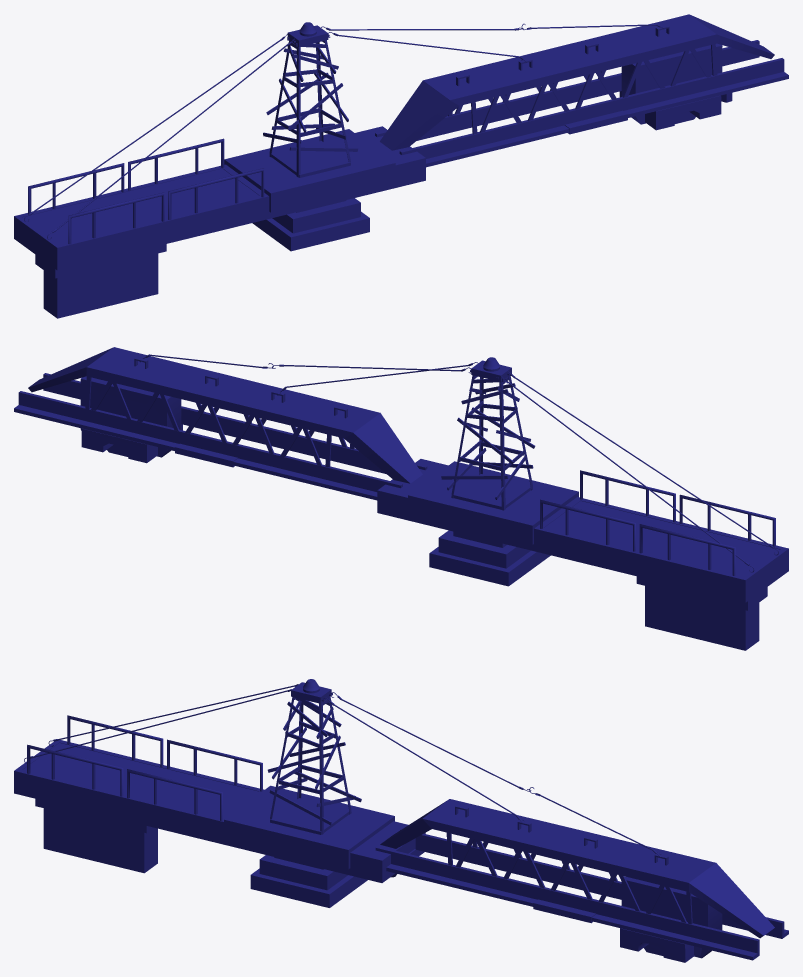
File: top_v2.FBX
3 views of the same model, one above another, from view 1: azimuth 30°, elevation 25°; view 2: azimuth 150°, elevation 25°; view 3: azimuth 330°, elevation 25° (orthographic).
Visible parts, largest first — view 1: Object221; view 2: Object221; view 3: Object221.
Boxes of the visible parts, <box> form: Object221: <box>14,14,788,318</box>; Object221: <box>14,347,788,650</box>; Object221: <box>14,679,788,962</box>.
Bounding box in the file's own units: 574 × 168 × 63.82.
